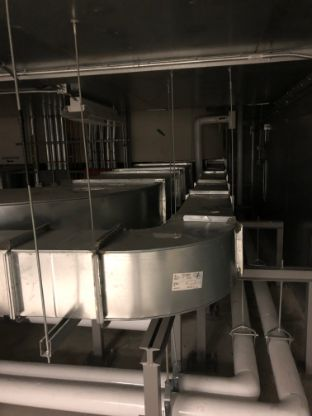Duct: (154, 154, 249, 326), (1, 223, 153, 325), (1, 157, 197, 224)
